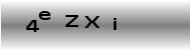4: (25, 19, 39, 33)
X: (84, 15, 100, 28)
Z: (63, 13, 80, 27)
e: (37, 10, 52, 20)
i: (112, 17, 117, 30)
